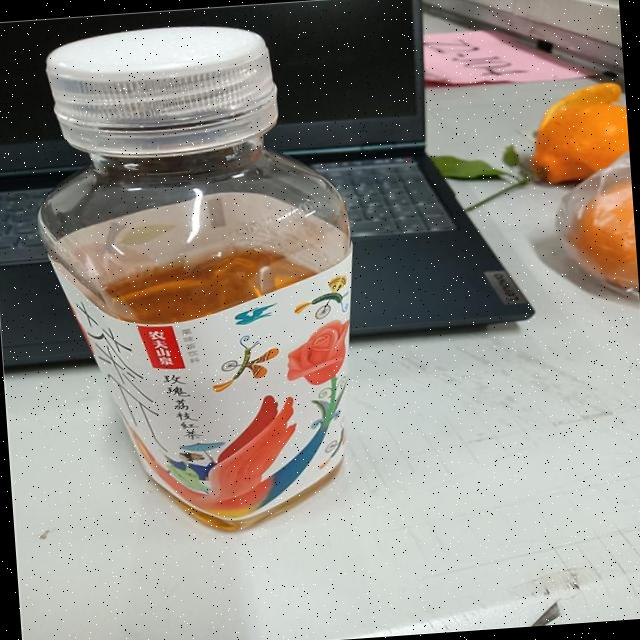orange-peel: (524, 79, 629, 185)
